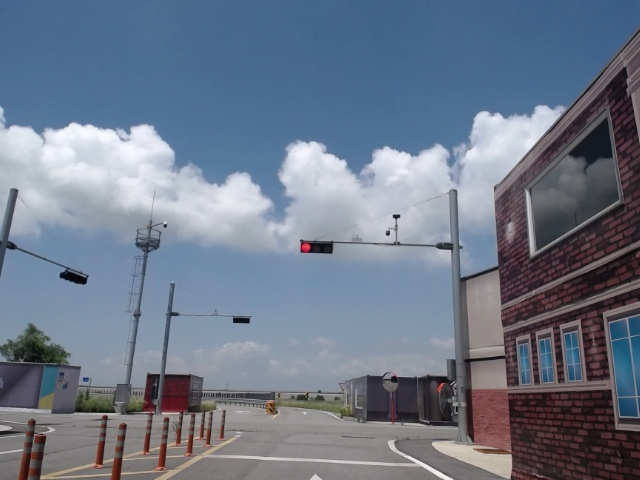red_3: (299, 240, 334, 254)
